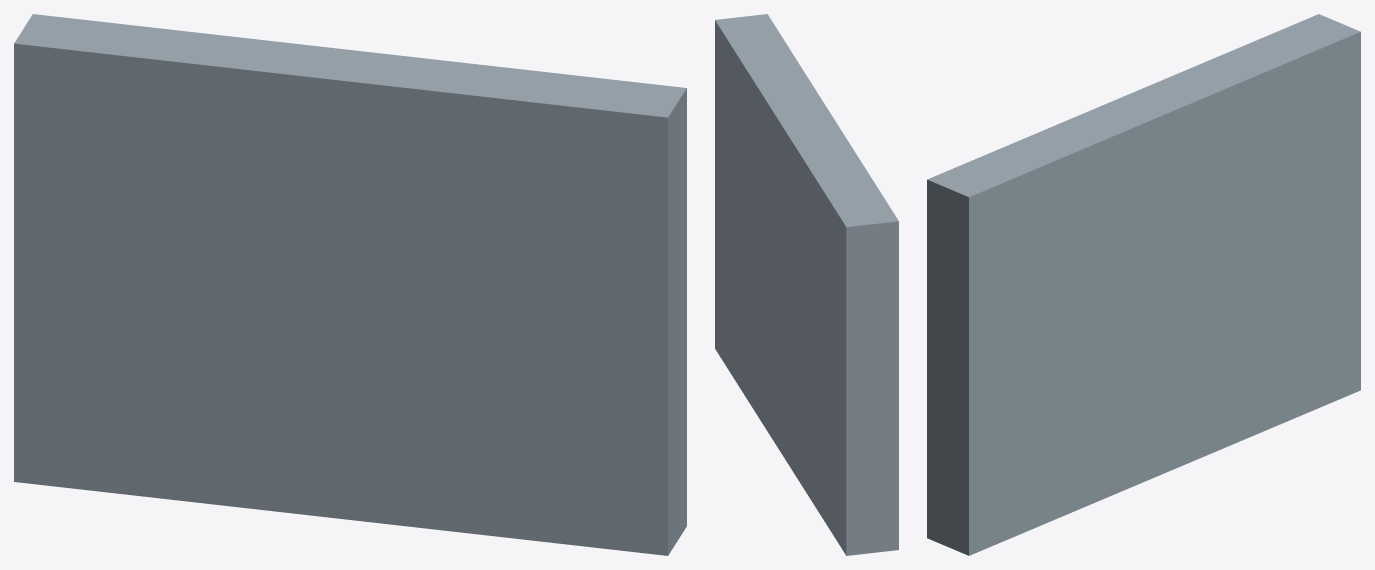
Rendered from SM_Wall_Angle.fbx.
3 views of the same model, side by side, from view 1: azimuth 30°, elevation 25°; view 2: azimuth 150°, elevation 25°; view 3: azimuth 270°, elevation 25° (orthographic). The views are drawn at different scales.
Visible parts, largest first — view 1: SM_Wall_Angle; view 2: SM_Wall_Angle; view 3: SM_Wall_Angle.
Part boxes in pixels (x1,y1,x2,y2): SM_Wall_Angle: [14, 14, 686, 555]; SM_Wall_Angle: [715, 14, 898, 555]; SM_Wall_Angle: [927, 14, 1360, 555].
Size of the model in its own units: 219 by 200 by 219.
